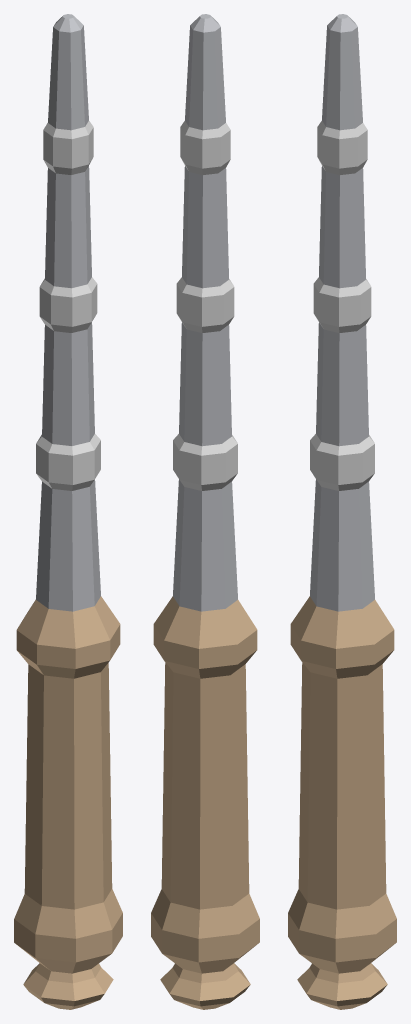
The model's file is FancyWand.fbx.
The picture shows the model from 3 angles, left to right: view 1: azimuth 30°, elevation 25°; view 2: azimuth 150°, elevation 25°; view 3: azimuth 330°, elevation 25°; orthographic projection.
Visible parts, largest first — view 1: FancyWand; view 2: FancyWand; view 3: FancyWand.
Boxes of the visible parts, x1,y1,x2,y2 form: FancyWand: [14, 14, 122, 1009]; FancyWand: [151, 14, 259, 1009]; FancyWand: [288, 14, 396, 1009].
Size of the model in its own units: 1.27 by 13.65 by 1.27.
